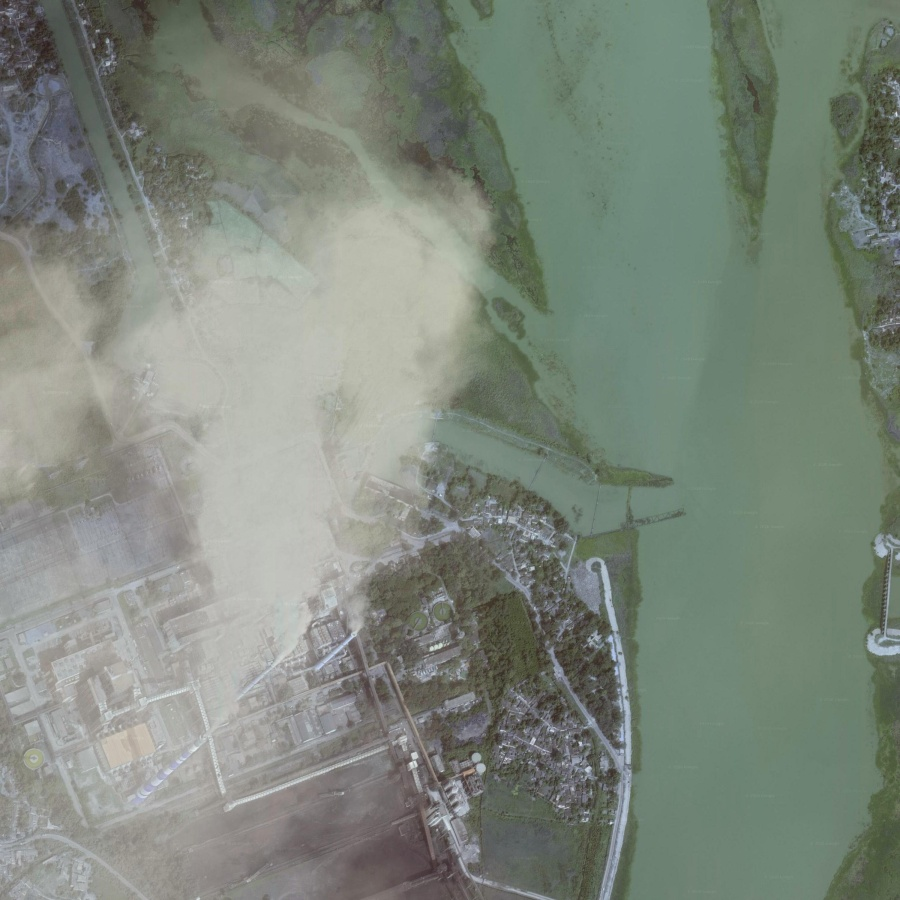PowerPlant: (94, 554, 384, 835)
